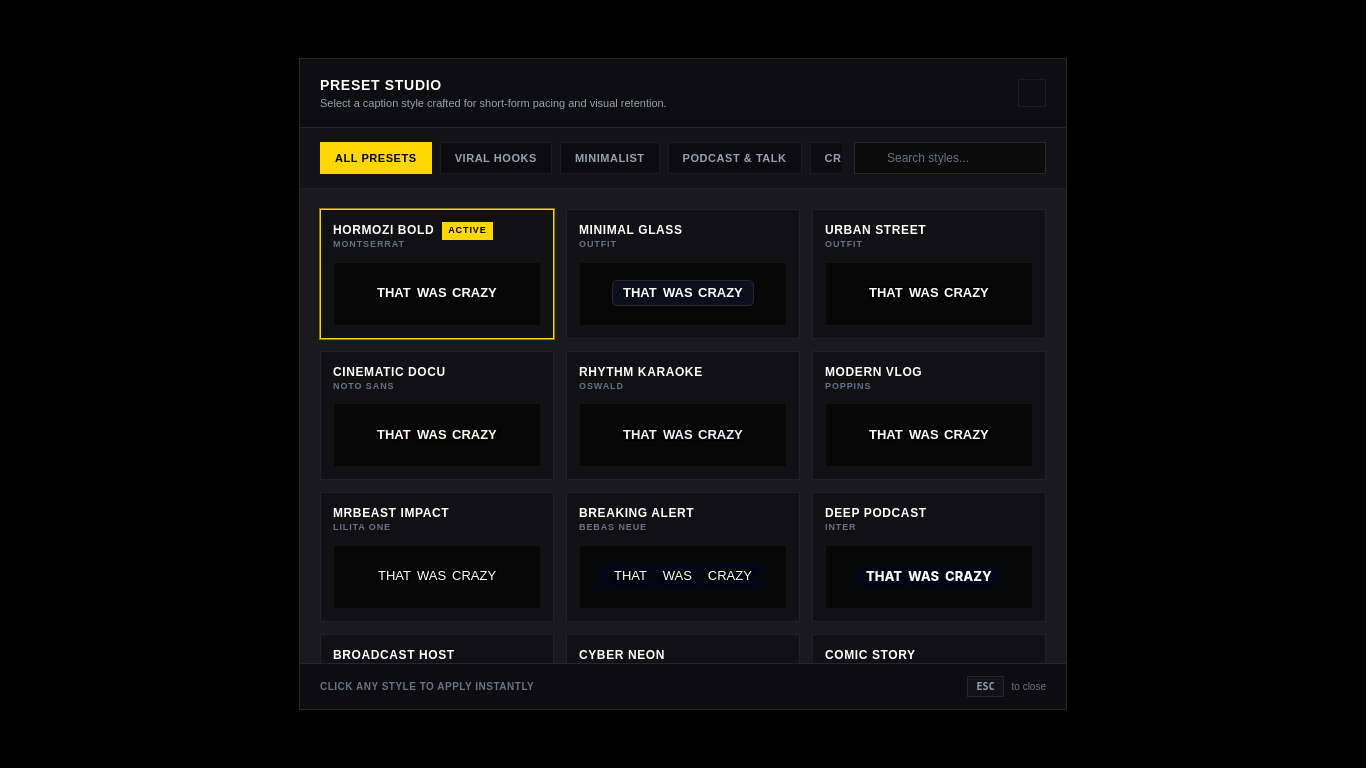
Test case: PresetStudioModal Component › filters presets when a category tab is clicked
The width and height of the screenshot is (1366, 768).
Step 1. Click the button "Podcast & Talk" → (735, 158), box [668, 142, 802, 174]
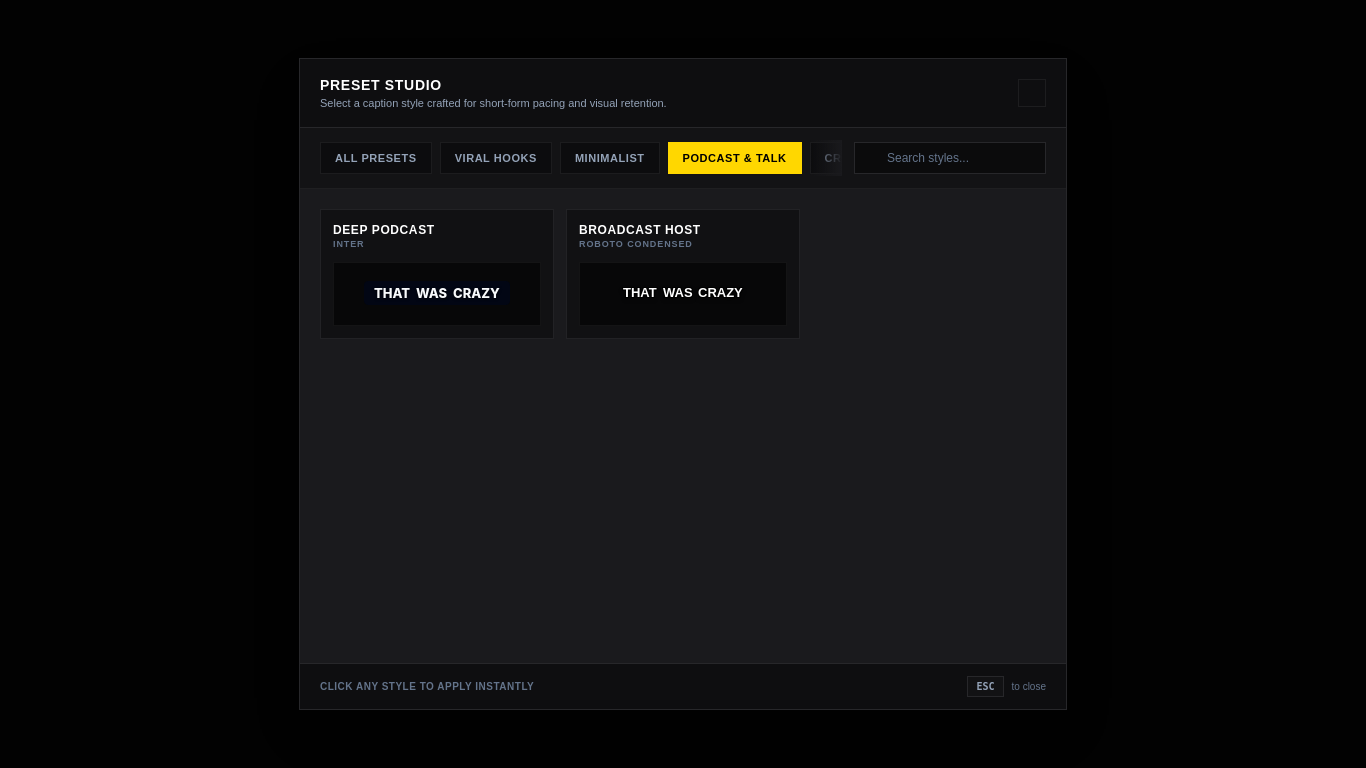
Expected: the text "Deep Podcast" is shown, [333, 222, 435, 238]
Expected: the text "Comic Story" is gone
